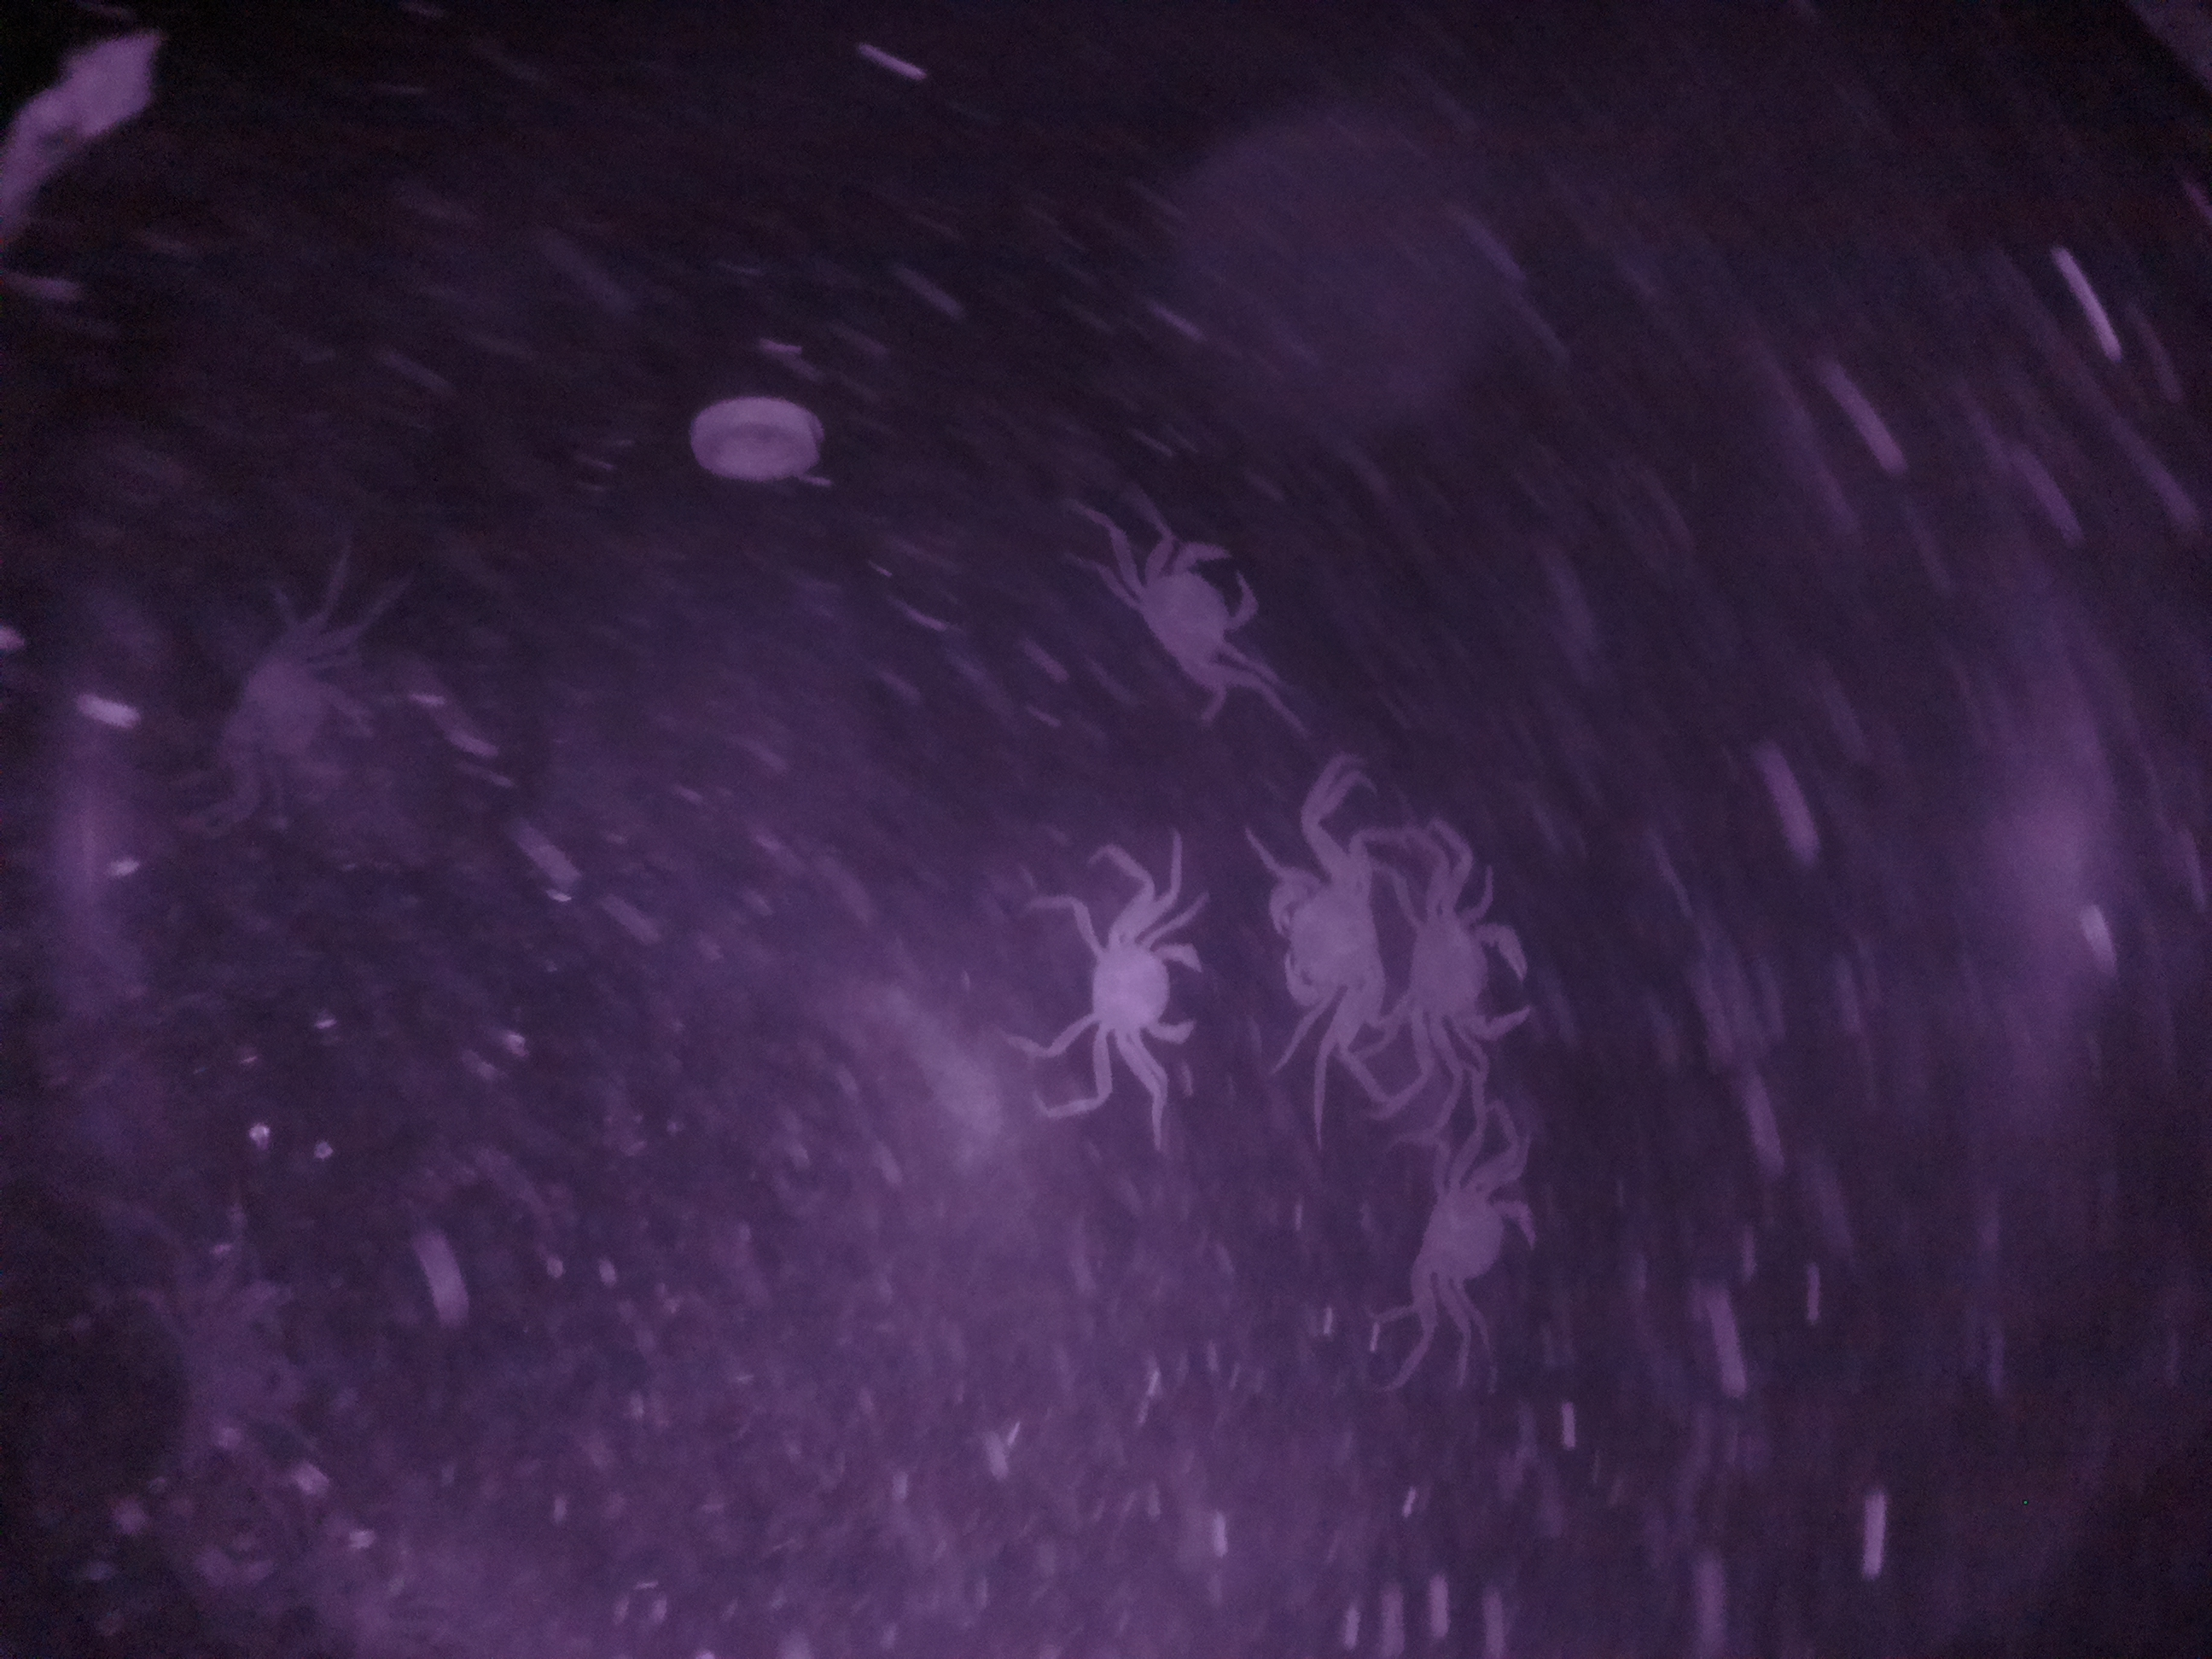Crab: (1383, 852, 1569, 1098), (1036, 863, 1216, 1086), (1233, 816, 1383, 1079), (1125, 516, 1291, 720), (1385, 1141, 1533, 1347)
